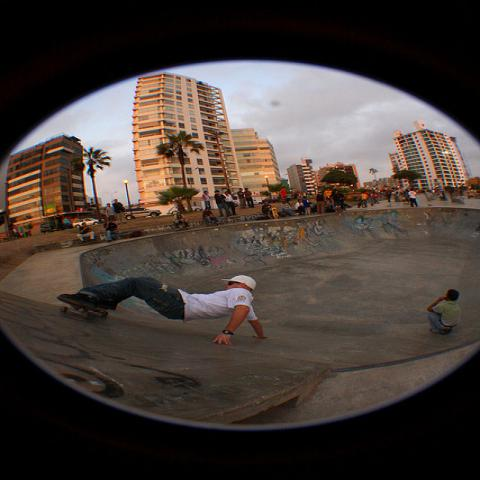car: (124, 208, 162, 220), (166, 204, 204, 214), (72, 218, 106, 228)
